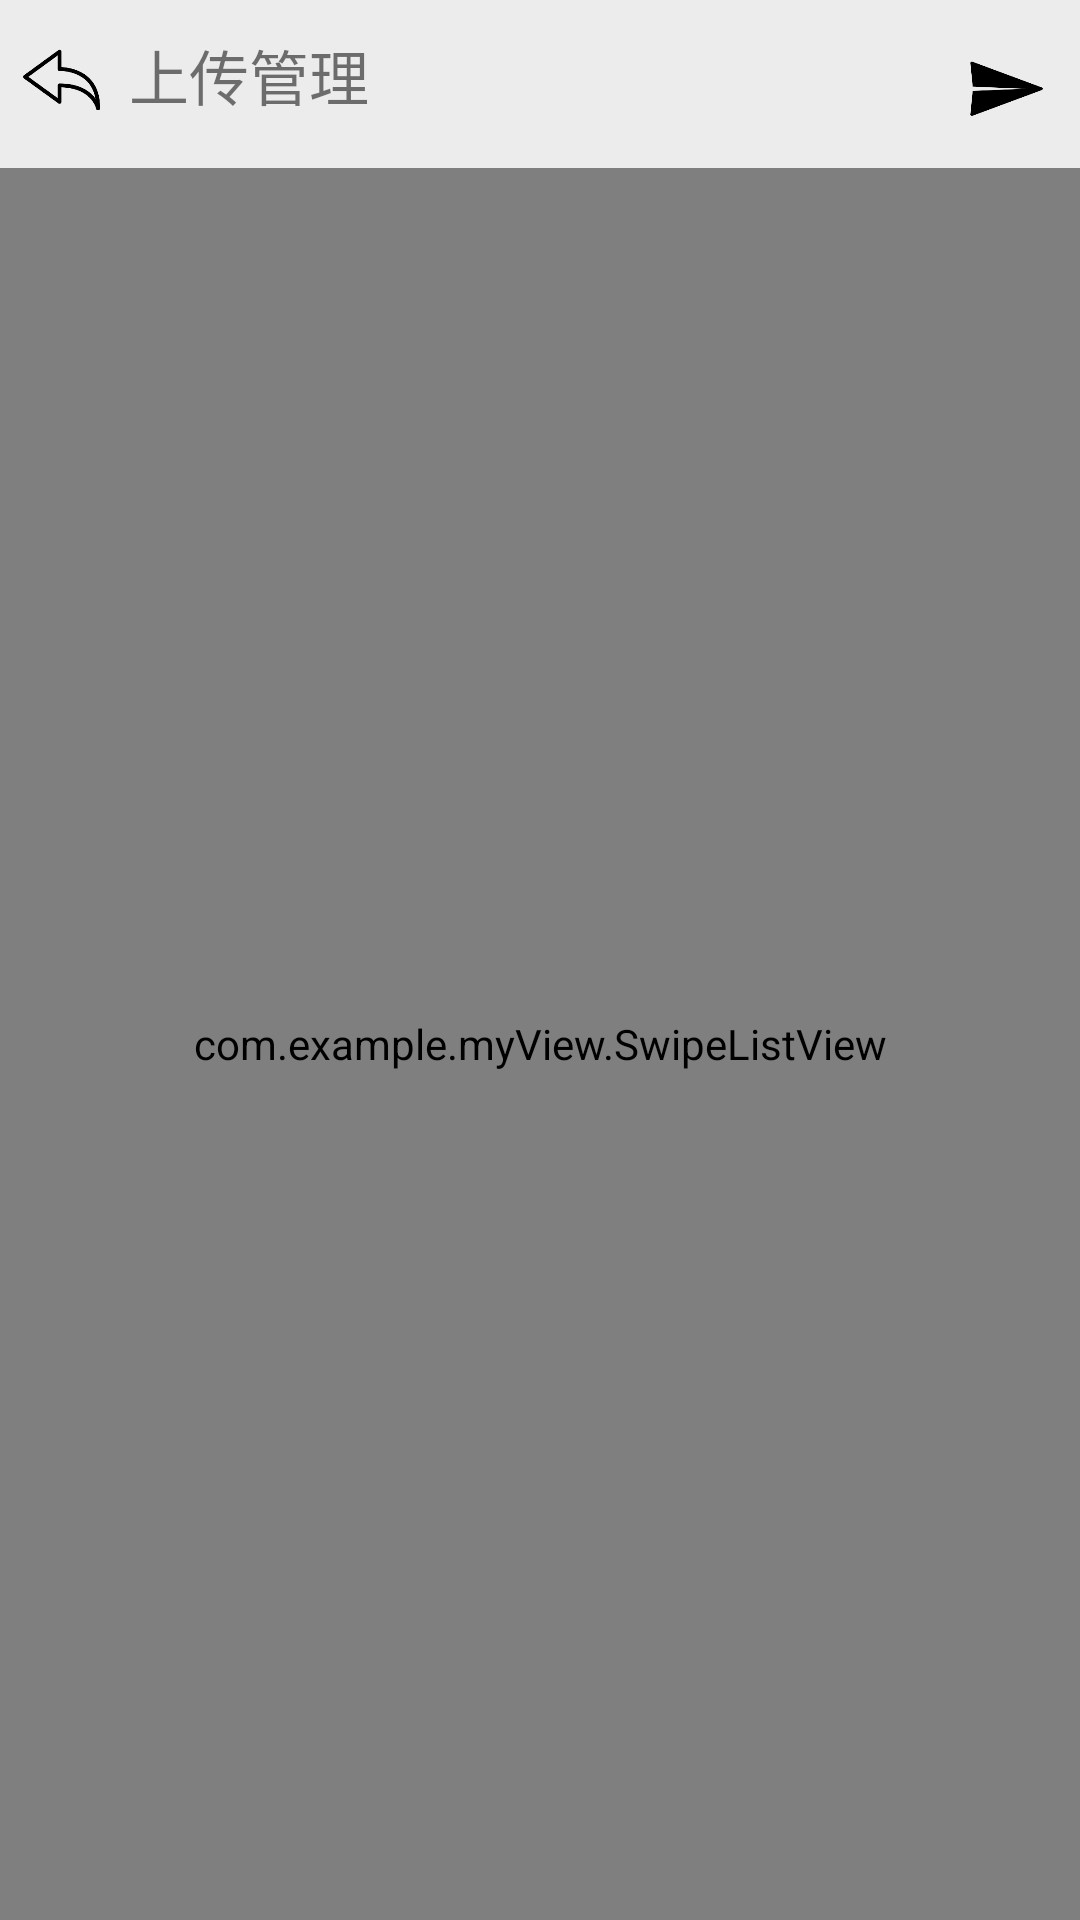

Icons on this 1080×1920 Android screen, each with its box as {"left": x1, "top": y1, "right": x2, "bottom": y2}:
upload: {"left": 970, "top": 61, "right": 1043, "bottom": 116}
